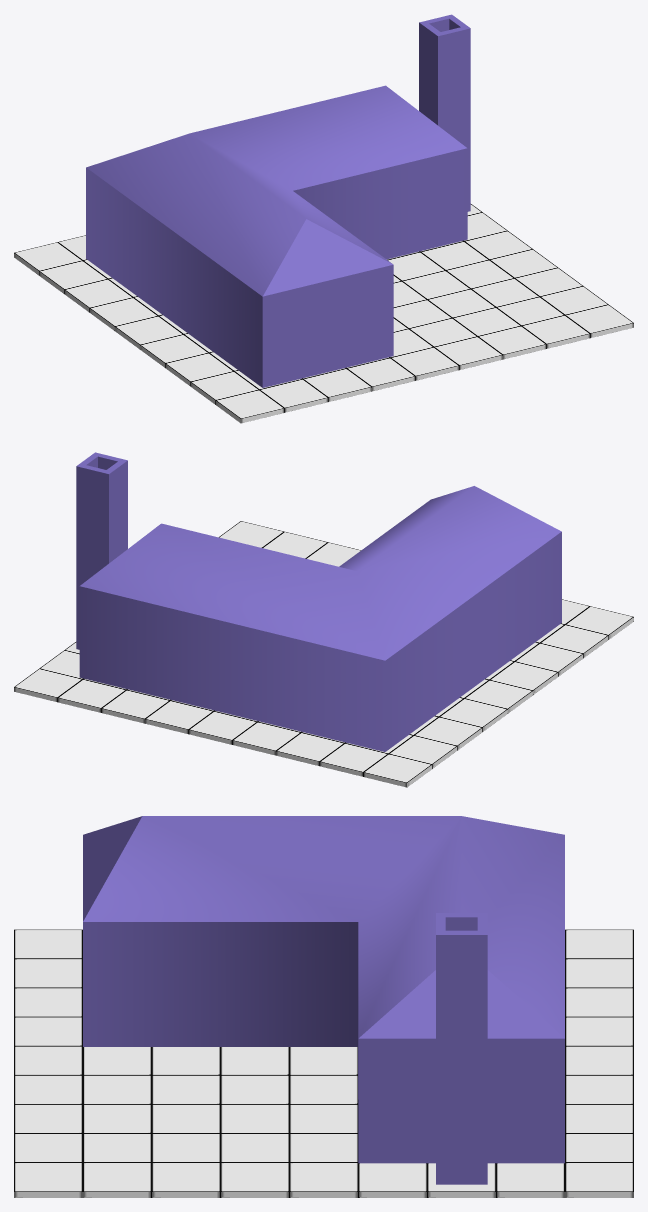
Rendered from XG_Bathhouse.glb.
3 views of the same model, one above another, from view 1: azimuth 30°, elevation 25°; view 2: azimuth 150°, elevation 25°; view 3: azimuth 270°, elevation 25° (orthographic). The views are drawn at different scales.
Visible parts, largest first — view 1: building_7m_3m_g_shape_008, building_3m_3m_011, 1m_base_block_3316, 1m_base_block_3311, 1m_base_block_3315, 1m_base_block_3314, 1m_base_block_3309, 1m_base_block_3310, 1m_base_block_3312, 1m_base_block_3313, 1m_base_block_3317, 1m_base_block_3295 (+23 smaller); view 2: building_7m_3m_g_shape_008, building_3m_3m_011, 1m_base_block_3325, 1m_base_block_3320, 1m_base_block_3323, 1m_base_block_3324, 1m_base_block_3319, 1m_base_block_3326, 1m_base_block_3321, 1m_base_block_3322, 1m_base_block_3318, 1m_base_block_3298 (+11 smaller); view 3: building_7m_3m_g_shape_008, building_3m_3m_011, 1m_base_block_3305, 1m_base_block_3306, 1m_base_block_3304, 1m_base_block_3308, 1m_base_block_3317, 1m_base_block_3326, 1m_base_block_3303, 1m_base_block_3307, 1m_base_block_3283, 1m_base_block_3284 (+31 smaller).
Boxes of the visible parts, <box> form: building_7m_3m_g_shape_008: <box>86,85,467,387</box>; building_3m_3m_011: <box>419,14,470,211</box>; 1m_base_block_3316: <box>215,390,284,423</box>; 1m_base_block_3311: <box>390,347,459,380</box>; 1m_base_block_3315: <box>259,379,328,412</box>; 1m_base_block_3314: <box>522,315,590,348</box>; 1m_base_block_3309: <box>478,326,546,359</box>; 1m_base_block_3310: <box>434,336,502,369</box>; 1m_base_block_3312: <box>347,358,415,391</box>; 1m_base_block_3313: <box>303,368,371,401</box>; 1m_base_block_3317: <box>565,304,633,337</box>; 1m_base_block_3295: <box>64,279,132,312</box>; building_7m_3m_g_shape_008: <box>79,486,561,751</box>; building_3m_3m_011: <box>76,452,127,649</box>; 1m_base_block_3325: <box>363,754,432,787</box>; 1m_base_block_3320: <box>188,711,256,744</box>; 1m_base_block_3323: <box>57,679,125,712</box>; 1m_base_block_3324: <box>319,743,387,776</box>; 1m_base_block_3319: <box>145,700,213,734</box>; 1m_base_block_3326: <box>14,668,82,702</box>; 1m_base_block_3321: <box>232,722,300,755</box>; 1m_base_block_3322: <box>276,732,344,765</box>; 1m_base_block_3318: <box>101,690,169,723</box>; 1m_base_block_3298: <box>490,661,558,694</box>; building_7m_3m_g_shape_008: <box>83,816,564,1163</box>; building_3m_3m_011: <box>436,913,487,1184</box>; 1m_base_block_3305: <box>220,1162,289,1197</box>; 1m_base_block_3306: <box>151,1162,220,1197</box>; 1m_base_block_3304: <box>289,1162,358,1197</box>; 1m_base_block_3308: <box>83,1162,151,1197</box>; 1m_base_block_3317: <box>14,1162,82,1197</box>; 1m_base_block_3326: <box>565,1162,633,1197</box>; 1m_base_block_3303: <box>358,1163,427,1197</box>; 1m_base_block_3307: <box>496,1163,564,1197</box>; 1m_base_block_3283: <box>289,1133,358,1162</box>; 1m_base_block_3284: <box>220,1133,289,1162</box>.
Size of the model in its own units: 9 by 4.12 by 9.
Materials: 2 (1 with a texture image).
